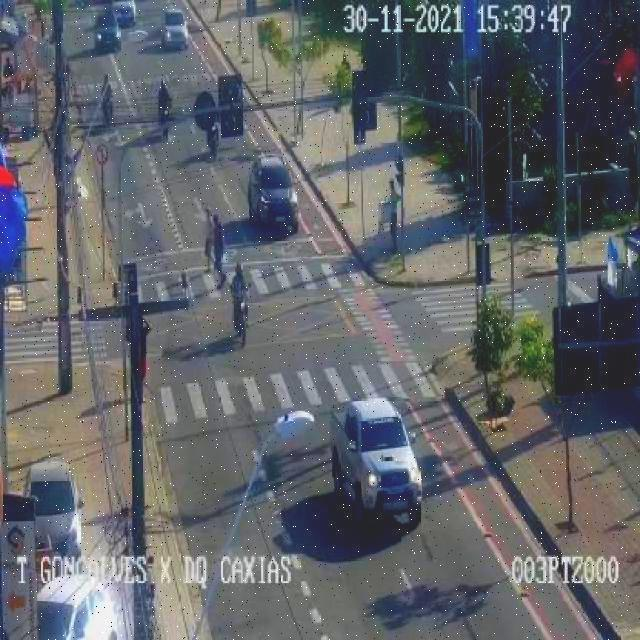Car: (320, 389, 430, 539), (24, 452, 86, 562), (245, 153, 302, 249), (27, 581, 112, 640), (158, 6, 191, 55), (90, 8, 123, 51)
Cycle: (229, 266, 252, 350), (152, 80, 177, 147), (101, 76, 118, 130), (209, 116, 221, 160)
